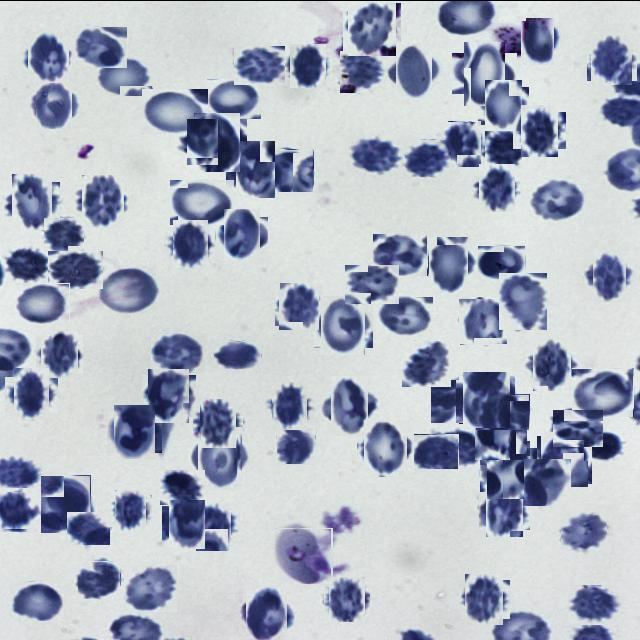red blood cell: (95, 266, 160, 314), (572, 367, 634, 416), (170, 178, 235, 224), (142, 88, 208, 133), (193, 430, 247, 484), (41, 474, 91, 532), (190, 114, 243, 168), (458, 46, 511, 99), (345, 0, 398, 53), (318, 298, 370, 351), (499, 272, 547, 329), (461, 373, 513, 425), (360, 422, 410, 473), (539, 434, 590, 484), (122, 564, 176, 611), (484, 444, 534, 494), (242, 590, 292, 638), (529, 178, 586, 220), (431, 378, 485, 422), (373, 232, 428, 275), (231, 144, 279, 193), (424, 240, 472, 288), (145, 371, 193, 419), (326, 381, 374, 429), (78, 176, 126, 224), (110, 408, 158, 456), (376, 296, 433, 336), (459, 296, 506, 344), (8, 178, 56, 225), (523, 458, 571, 505), (15, 282, 70, 323), (402, 340, 451, 386), (75, 25, 128, 67), (478, 414, 524, 462), (345, 263, 400, 303), (96, 56, 152, 95), (25, 33, 71, 80), (207, 78, 261, 118), (264, 148, 314, 191), (528, 340, 574, 386), (589, 36, 635, 82), (10, 581, 64, 620), (151, 333, 205, 372), (48, 250, 103, 288), (568, 584, 620, 624), (391, 47, 436, 93), (350, 136, 404, 174), (462, 576, 507, 621), (517, 107, 562, 152), (482, 82, 526, 128), (340, 50, 388, 92), (234, 45, 285, 84), (9, 372, 54, 416), (476, 393, 530, 429), (553, 408, 604, 446), (482, 488, 526, 532), (220, 212, 264, 256), (277, 284, 321, 328), (192, 504, 235, 548), (33, 82, 76, 125), (197, 401, 240, 444), (588, 254, 632, 296), (38, 332, 81, 374), (169, 223, 212, 265), (405, 138, 452, 176), (442, 122, 484, 164), (476, 166, 518, 208), (269, 384, 311, 426), (166, 502, 208, 544), (561, 512, 608, 549), (6, 247, 53, 284), (277, 421, 316, 464), (326, 578, 367, 618), (287, 45, 328, 85), (0, 489, 40, 530), (78, 560, 121, 598), (478, 244, 526, 278), (518, 20, 558, 60), (440, 430, 482, 468), (160, 469, 205, 504), (414, 433, 459, 468), (184, 122, 222, 160), (485, 129, 522, 168), (67, 511, 110, 544), (112, 492, 150, 529), (44, 216, 85, 250), (214, 340, 262, 368), (584, 430, 626, 460)
ring: (274, 527, 332, 583)
